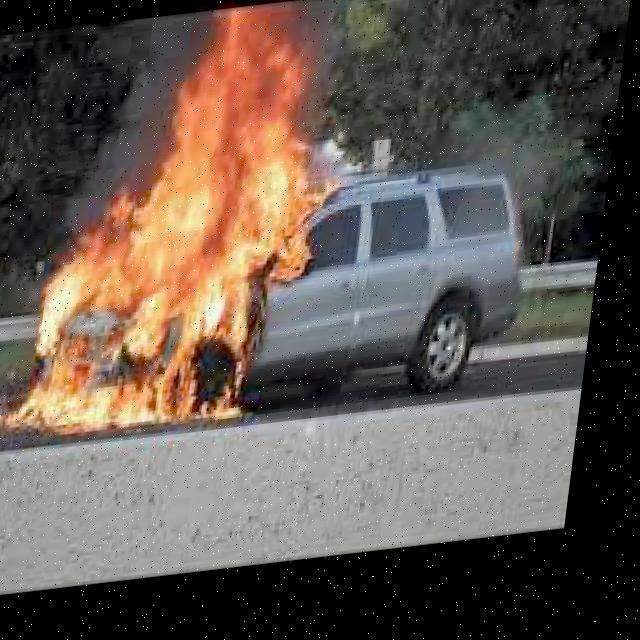Fire: (26, 51, 360, 452)
